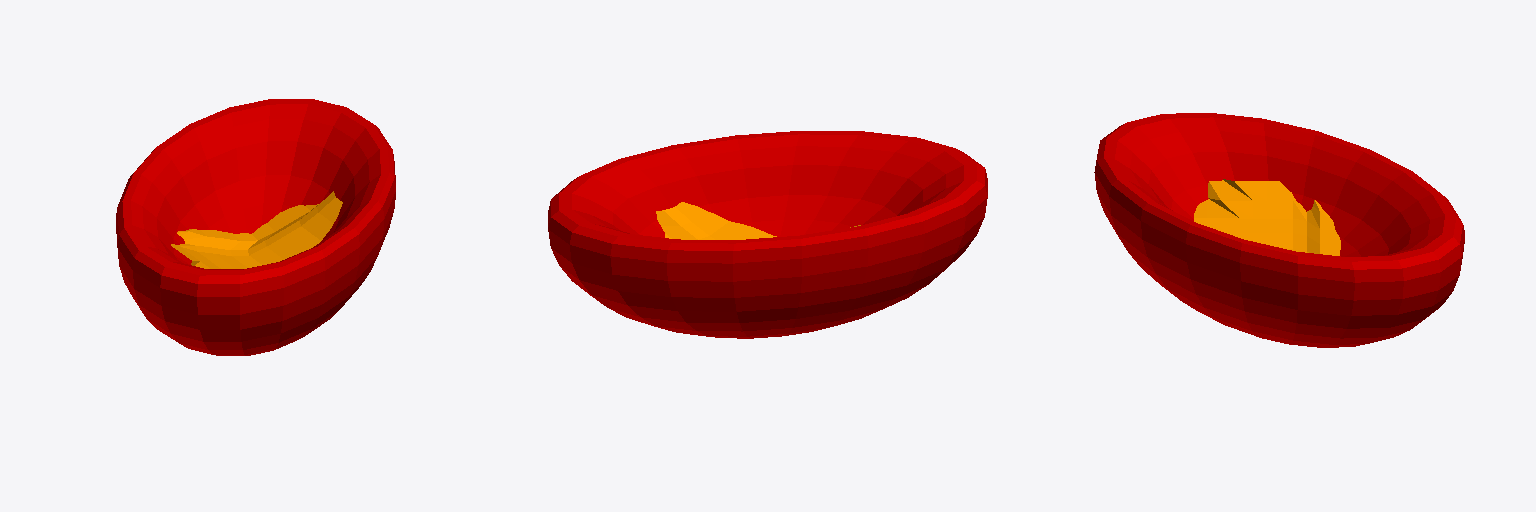
File: AntiVir_Transporter_2.obj
The picture shows the model from 3 angles: view 1: azimuth 30°, elevation 25°; view 2: azimuth 150°, elevation 25°; view 3: azimuth 270°, elevation 25°; orthographic projection.
Visible parts, largest first — view 1: pSphere1, pPlane1; view 2: pSphere1, pPlane1; view 3: pSphere1, pPlane1.
Part boxes in pixels (x1,y1,x2,y2): pSphere1: (116,99,395,355); pPlane1: (171,191,342,268); pSphere1: (548,131,987,338); pPlane1: (656,202,860,239); pSphere1: (1094,113,1464,347); pPlane1: (1194,179,1340,255).
Size of the model in its own units: 2.79 by 1.14 by 2.79.